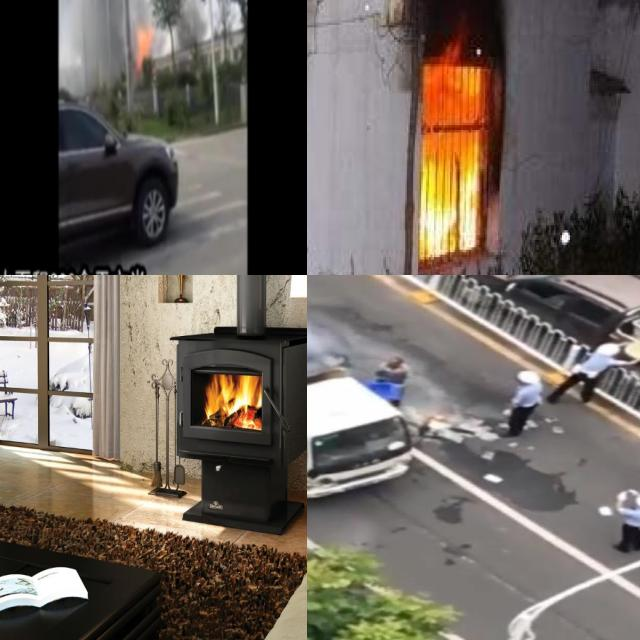fire: (415, 40, 488, 257), (204, 370, 261, 430), (133, 22, 153, 64)
smoke: (59, 0, 220, 91), (397, 0, 500, 59)
